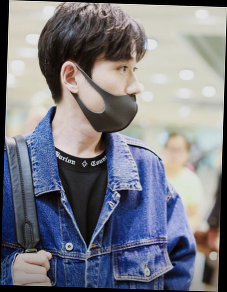mask_weared_incorrect: (81, 54, 142, 133)
